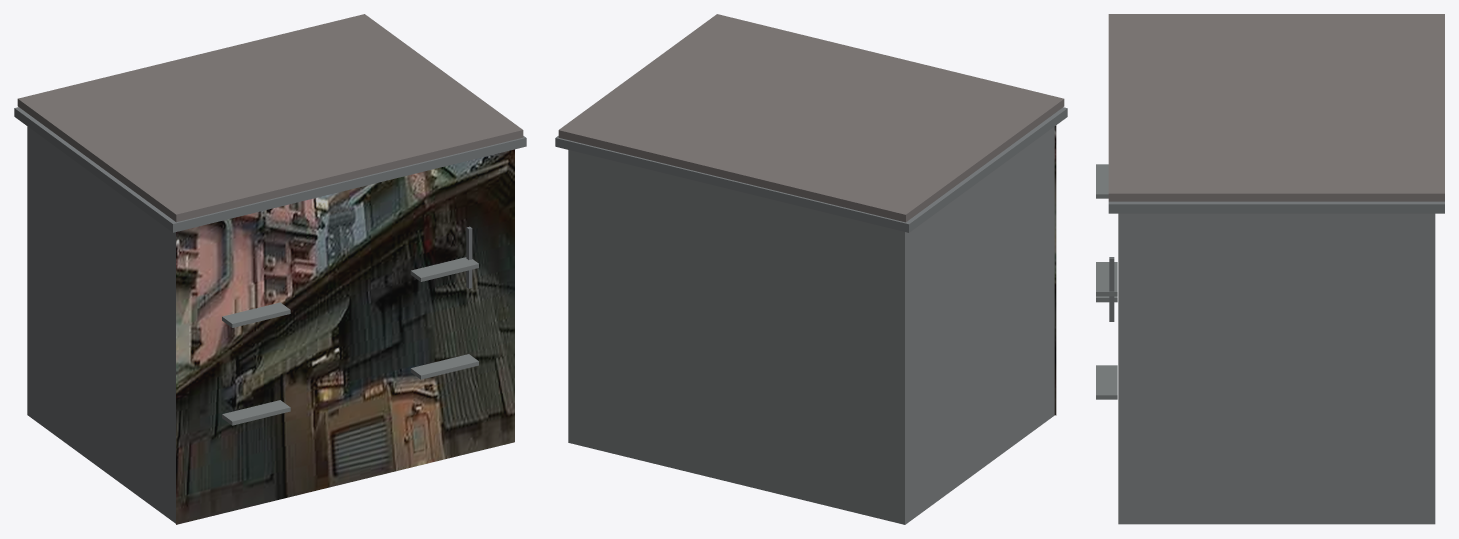
The model's file is warehouse_front.glb.
3 views of the same model, side by side, from view 1: azimuth 30°, elevation 25°; view 2: azimuth 150°, elevation 25°; view 3: azimuth 270°, elevation 25° (orthographic). The views are drawn at different scales.
Visible parts, largest first — view 1: photographic_facade, metal_roof, shell, roof_parapet, ledge_1_-3.6, ledge_1_3.6, ledge_2_-3.6, ledge_2_3.6; view 2: shell, metal_roof, roof_parapet, photographic_facade; view 3: shell, metal_roof, roof_parapet, ledge_1_3.6, ledge_2_3.6, ledge_2_-3.6.
Boxes of the visible parts, x1,y1,x2,y2 form: photographic_facade: (176,149,514,524); metal_roof: (17,14,523,222); shell: (27,126,175,523); roof_parapet: (14,107,526,232); ledge_1_-3.6: (222,400,290,425); ledge_1_3.6: (410,354,478,379); ledge_2_-3.6: (222,302,290,327); ledge_2_3.6: (410,257,478,281); shell: (568,127,1054,524); metal_roof: (558,14,1064,222); roof_parapet: (555,107,1067,232); photographic_facade: (1054,125,1056,415); shell: (1118,213,1435,524); metal_roof: (1108,14,1444,201); roof_parapet: (1108,201,1444,213); ledge_1_3.6: (1096,365,1117,399); ledge_2_3.6: (1096,262,1117,296); ledge_2_-3.6: (1096,164,1108,198).
Bounding box in the file's own units: 13.65 × 11.6 × 11.
1 material, 1 textured.
